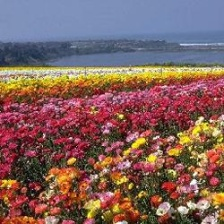neutral: (1, 9, 224, 223)
